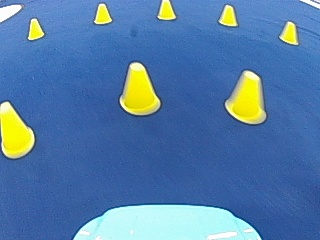cone: (118, 61, 160, 115), (225, 69, 266, 124), (0, 100, 35, 157), (278, 20, 298, 44), (217, 3, 237, 26), (93, 2, 112, 24), (156, 0, 176, 20), (27, 17, 44, 39)
